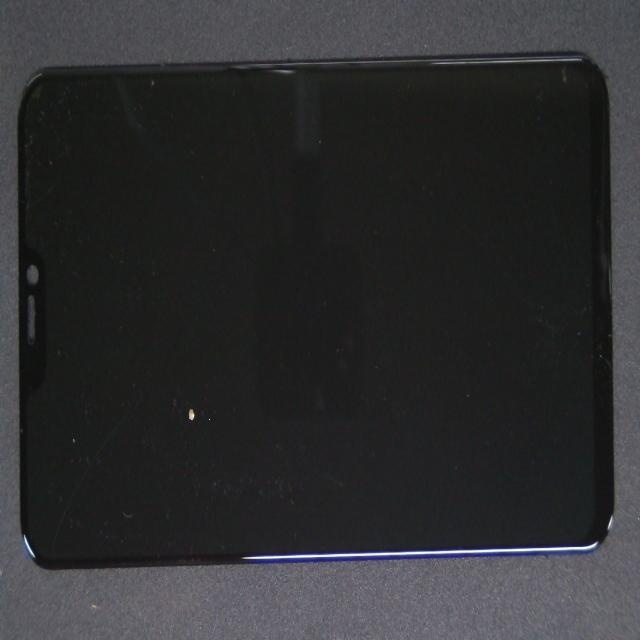stain: (90, 224, 273, 640)
